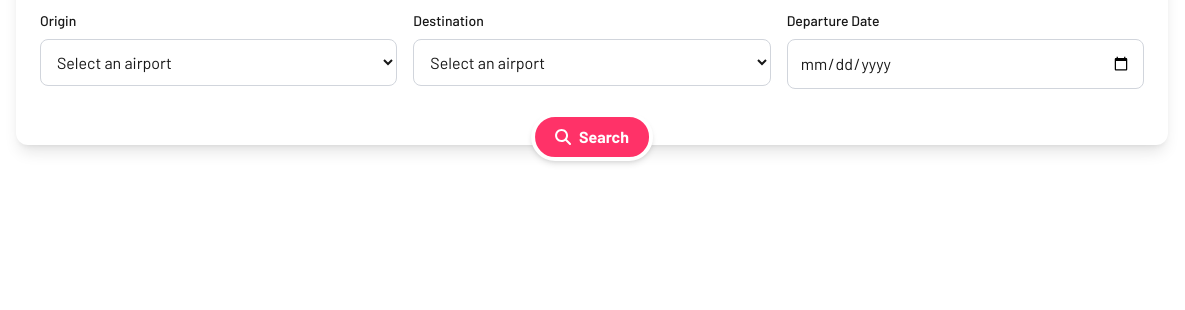
Listings form submission › should show loading state when fetching
This screenshot has width=1185, height=310.
Select "Amsterdam AMS" in the dropdown labelled "Origin" at (219, 62), box x1=40 y1=39 x2=397 y2=86
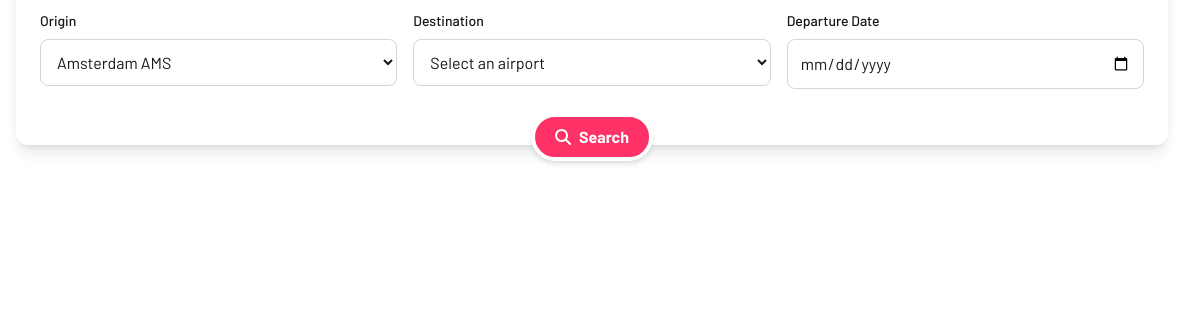
Select "Rotterdam RTM" in the dropdown labelled "Destination" at (592, 62), box x1=413 y1=39 x2=771 y2=86
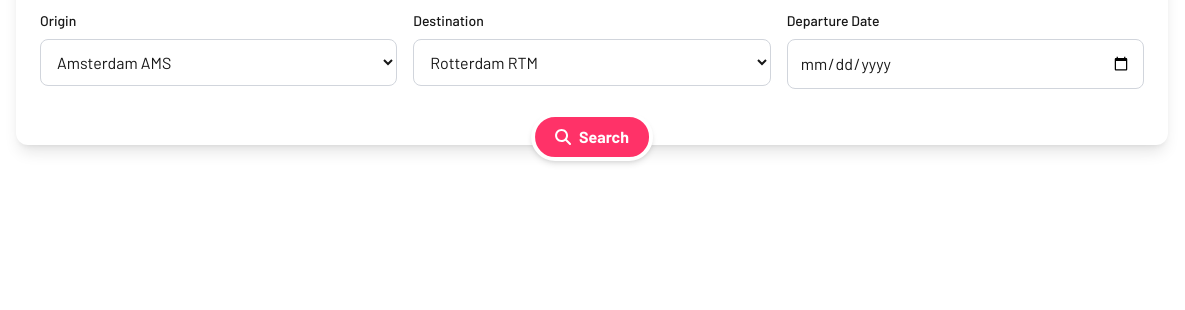
Type "2025-06-01" into the date field labelled "Departure Date" at (965, 64), box x1=787 y1=39 x2=1144 y2=89
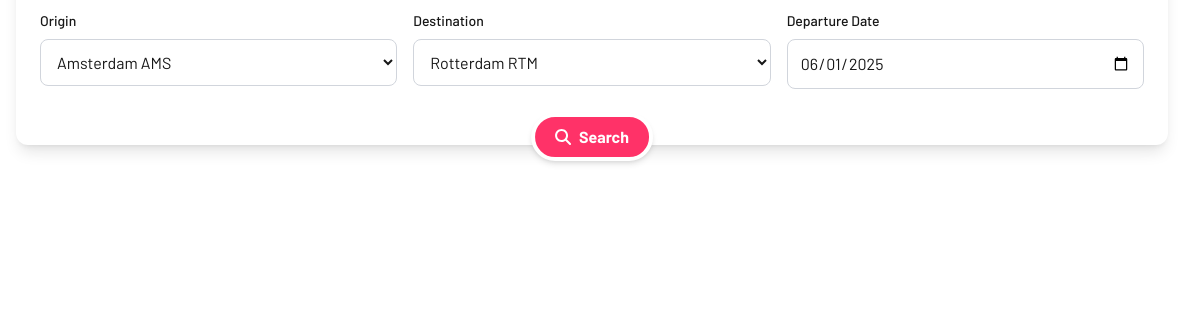
Click the button "Search" at (592, 137), box x1=531 y1=113 x2=653 y2=161
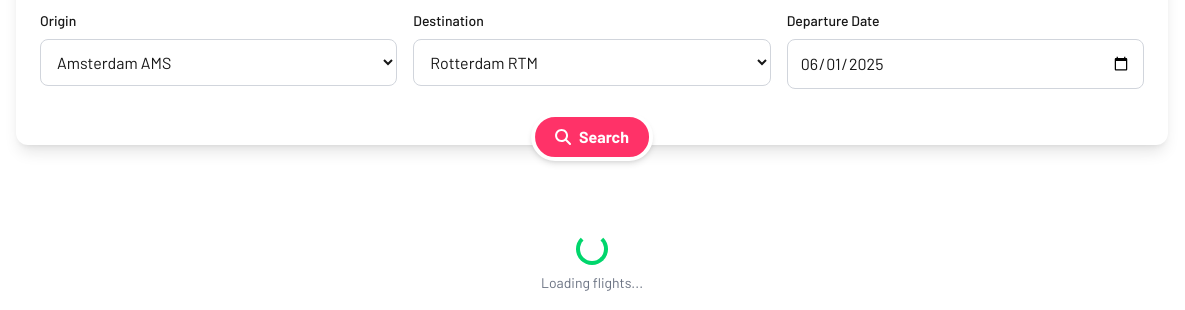
Check: the text "Loading flights..." is shown, box x1=541 y1=273 x2=643 y2=293
